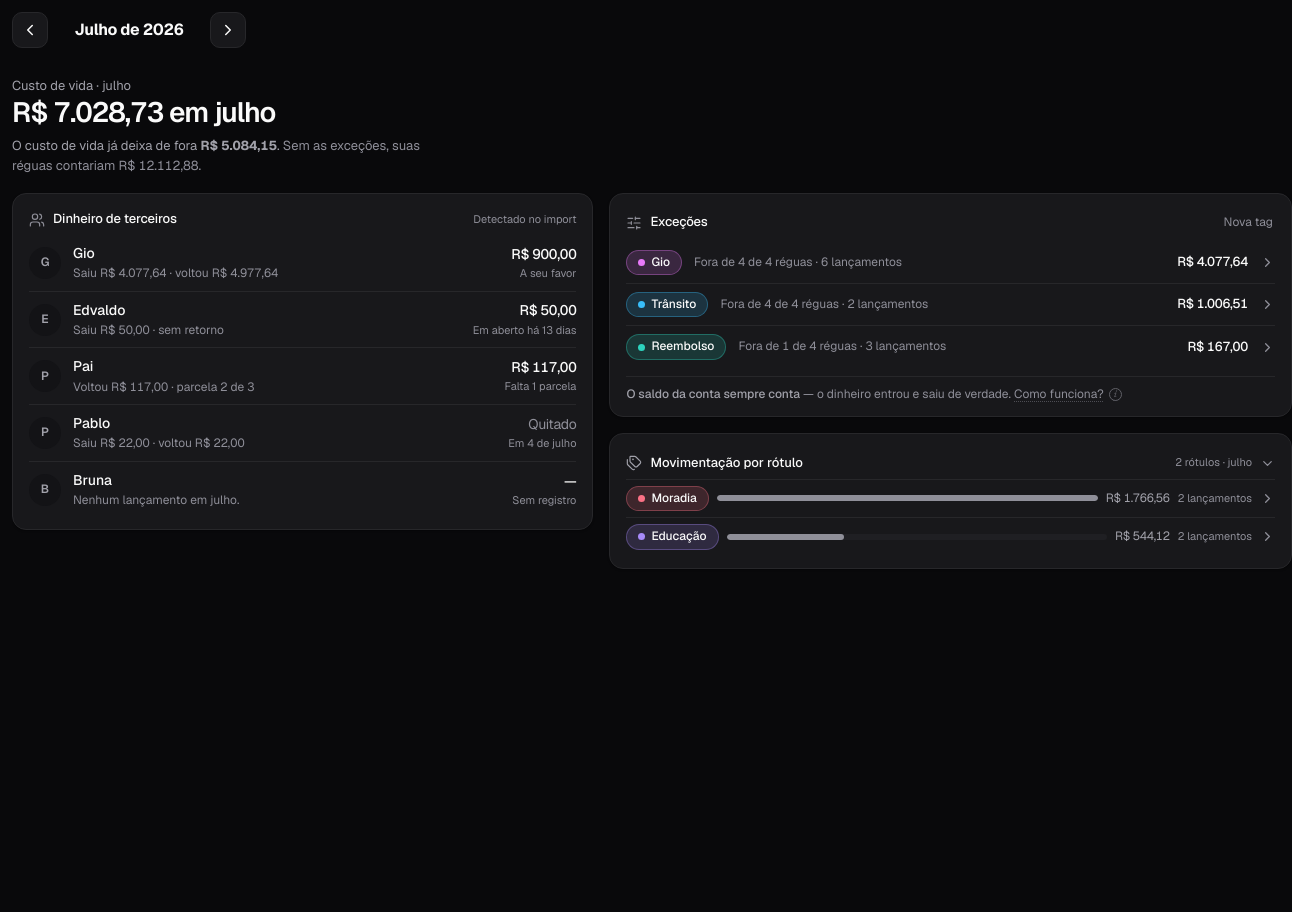
TagsScreen › escrita em voo trava as 4 réguas da MESMA tag (lost update): o 2º clique espera
expect the heading "Exceções" is shown: met, box [650,214,708,232]
Click the heading "Gio". click: (654, 262)
box: [626,242,1275,283]
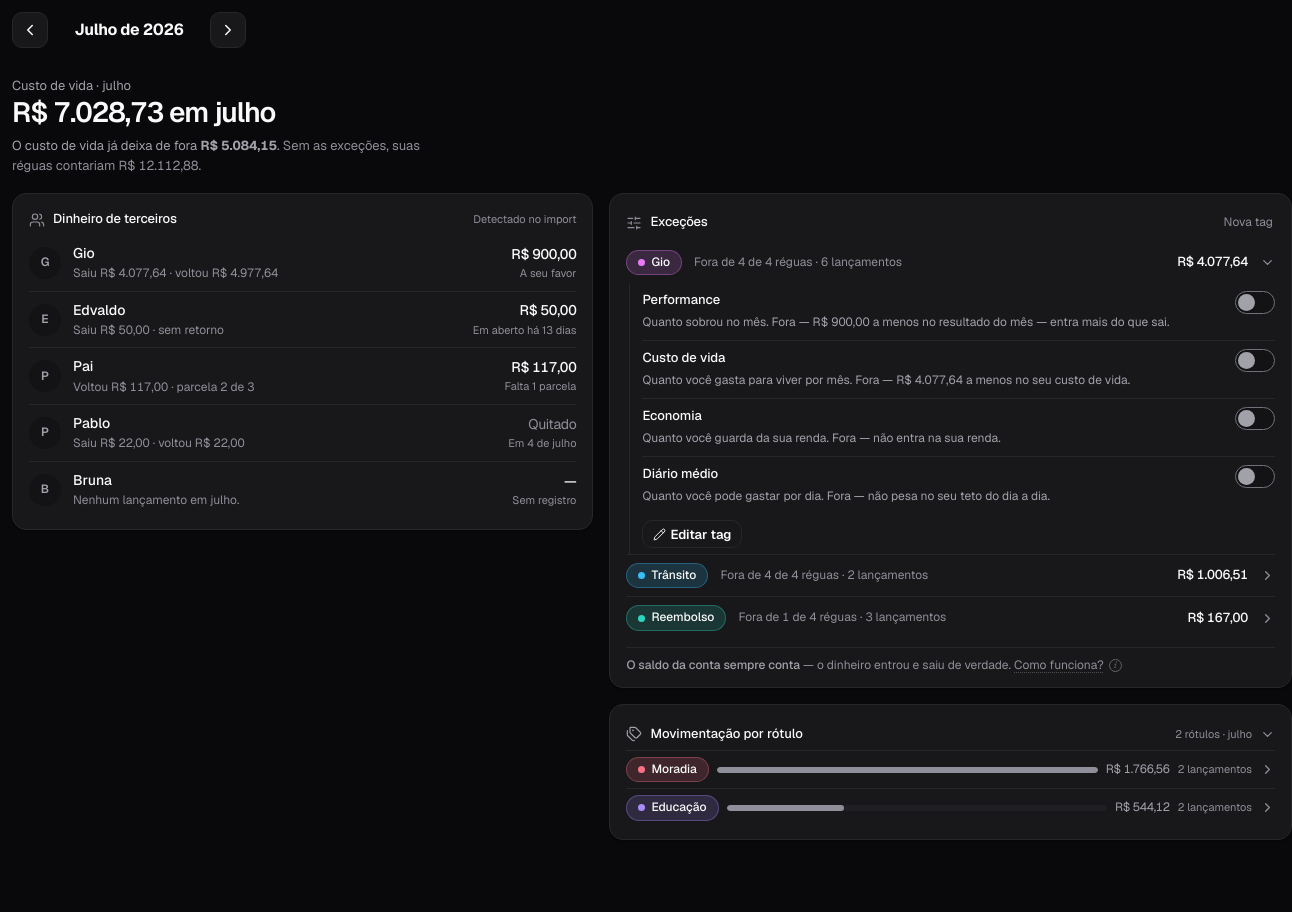
Click the switch named "Performance · tag Gio". click: (1255, 302)
box: [1235,291,1275,314]
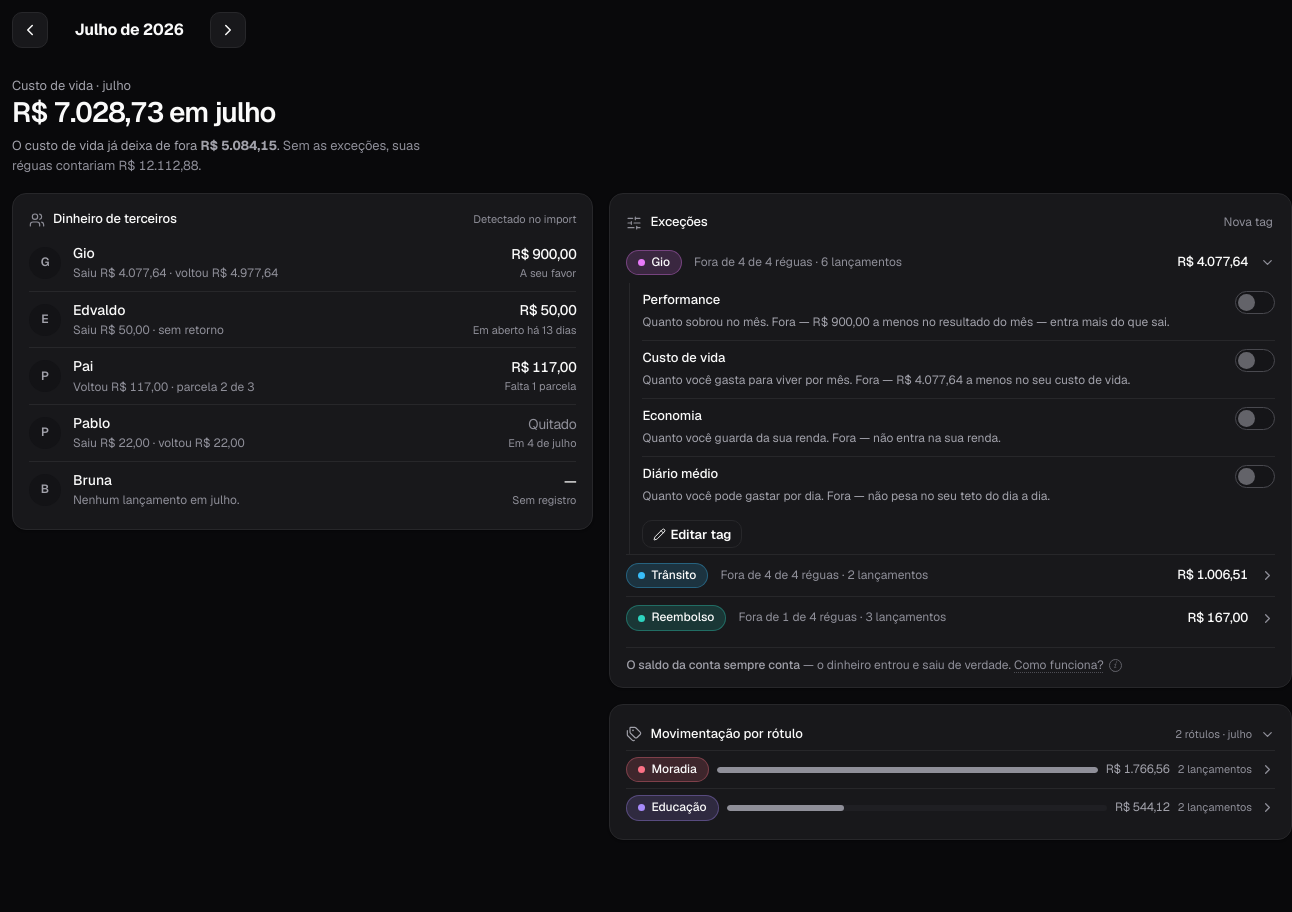
expect the switch named "Custo de vida · tag Gio" is disabled: met, box [1235,349,1275,372]
expect the switch named "Performance · tag Gio" is disabled: met, box [1235,291,1275,314]
Régua de OUTRA tag segue livre — o trava é por tag, não global.
Click the heading "Trânsito". click: (667, 576)
box: [626,555,1275,596]
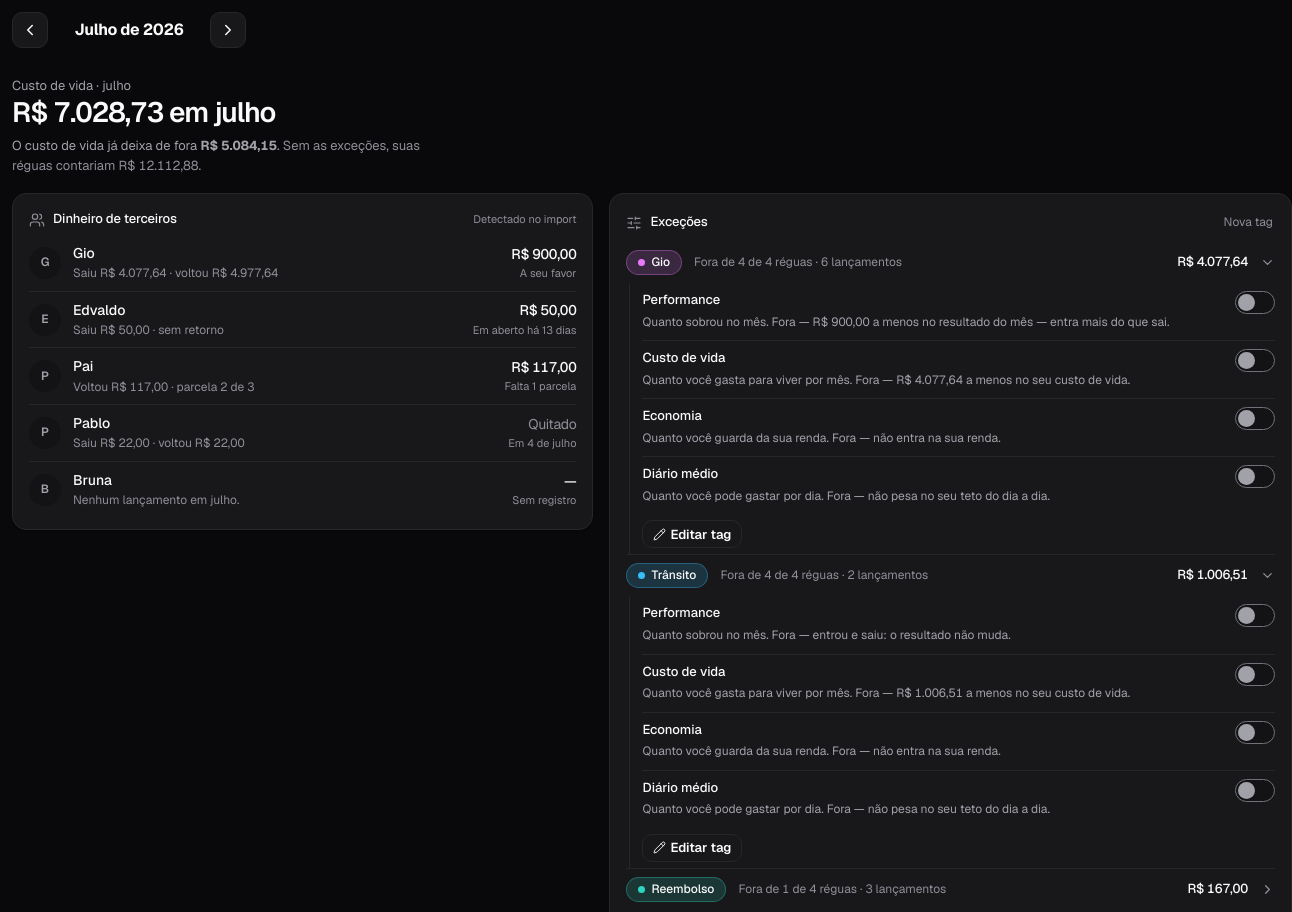
expect the switch named "Performance · tag Trânsito" is enabled: met, box [1235,604,1275,628]
expect the switch named "Performance · tag Gio" is enabled: met, box [1235,291,1275,314]
